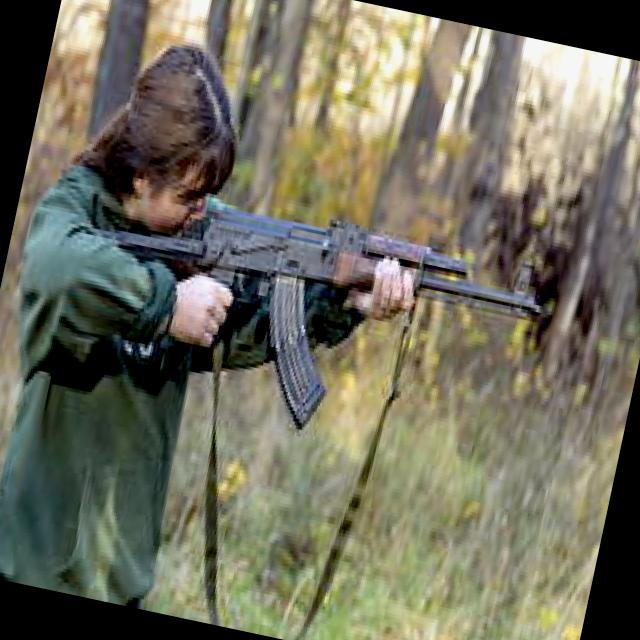ak: (61, 152, 562, 480)
